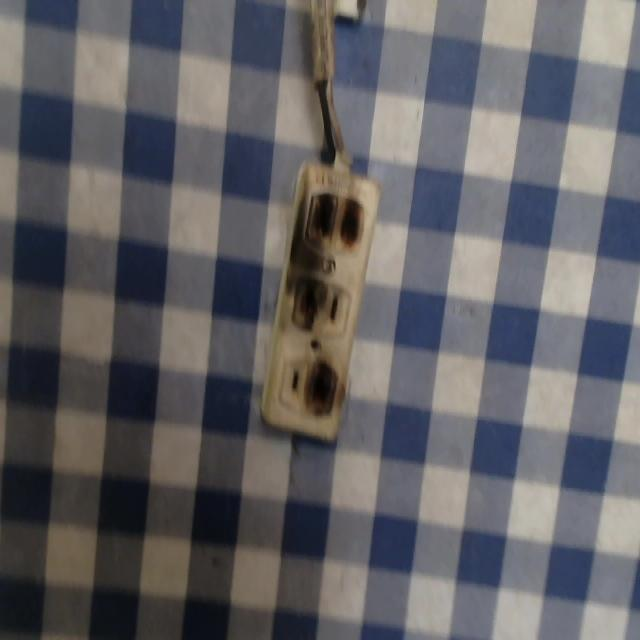-: (295, 180, 381, 256), (277, 263, 331, 336), (304, 358, 343, 418)
